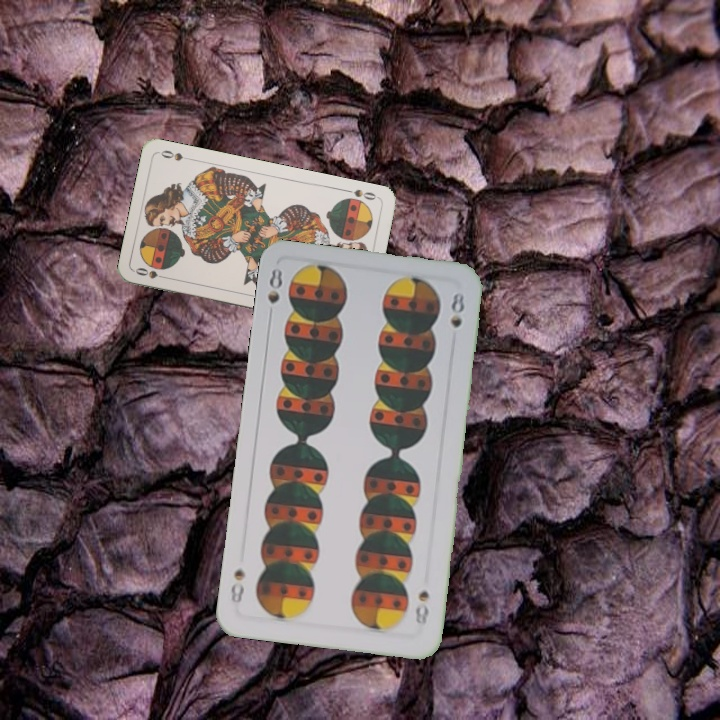S8: (263, 264, 285, 323), (411, 586, 431, 630)
SO: (131, 263, 172, 281), (341, 185, 381, 203)
